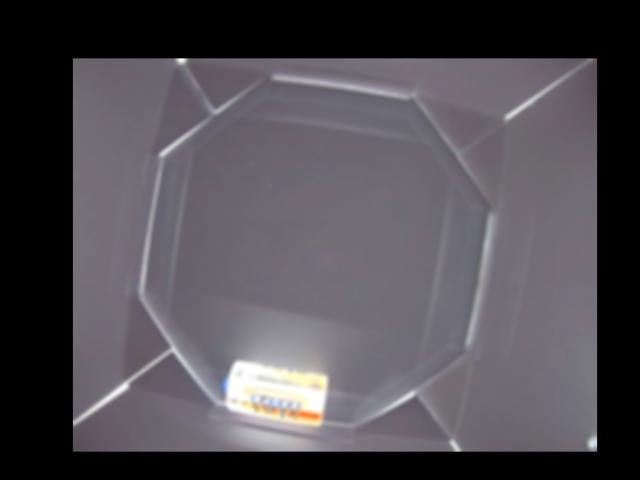Battery: (223, 359, 328, 424)
